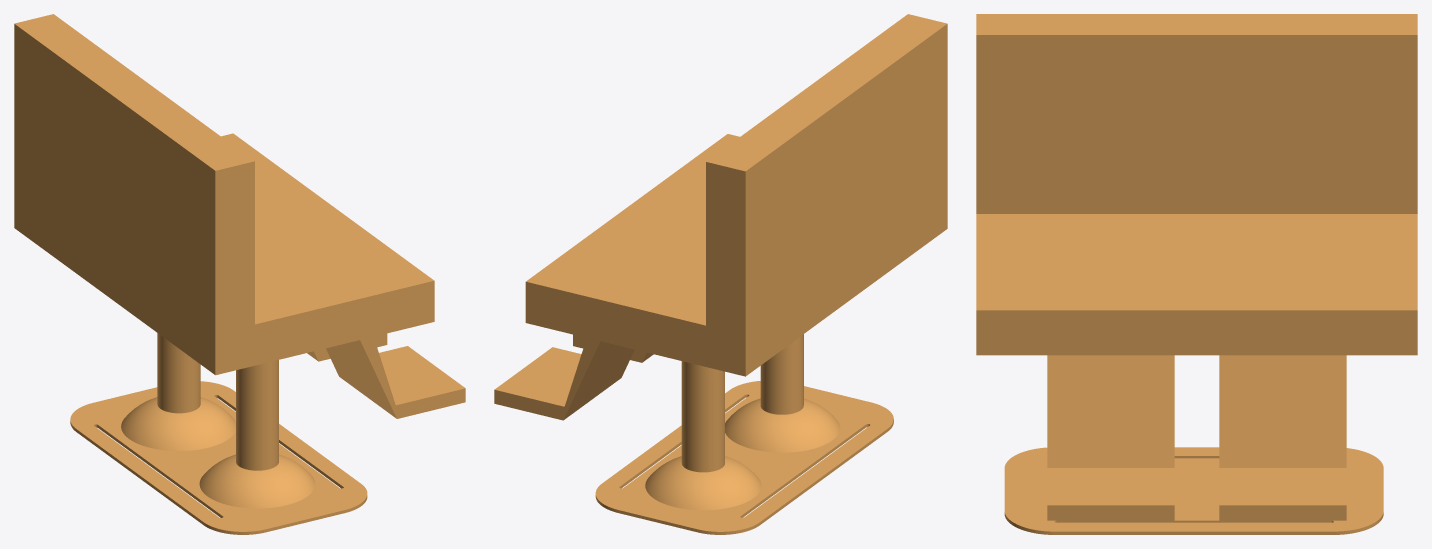
The model's file is OUTFITTING_INTERIOR__helm seat.glb.
The picture shows the model from 3 angles, left to right: view 1: azimuth 30°, elevation 25°; view 2: azimuth 150°, elevation 25°; view 3: azimuth 270°, elevation 25°; orthographic projection. The views are drawn at different scales.
Visible parts, largest first — view 1: helm seat; view 2: helm seat; view 3: helm seat.
Part boxes in pixels (left/top/right/bottom): helm seat: left=14, top=14, right=465, bottom=534; helm seat: left=494, top=14, right=947, bottom=534; helm seat: left=976, top=14, right=1417, bottom=534.
Bounding box in the file's own units: 0.9116 × 1.19 × 1.12.
